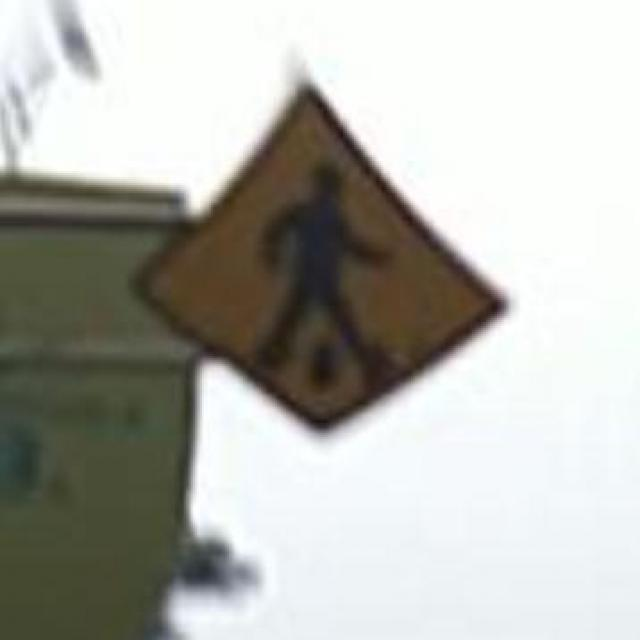traffic sign: (152, 91, 487, 409)
